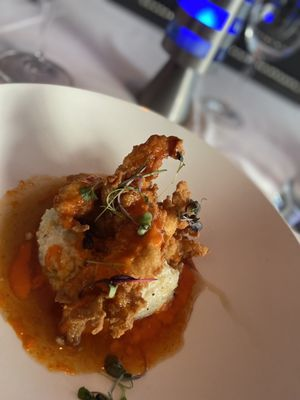sandwich: (164, 0, 250, 136), (0, 0, 72, 86)
